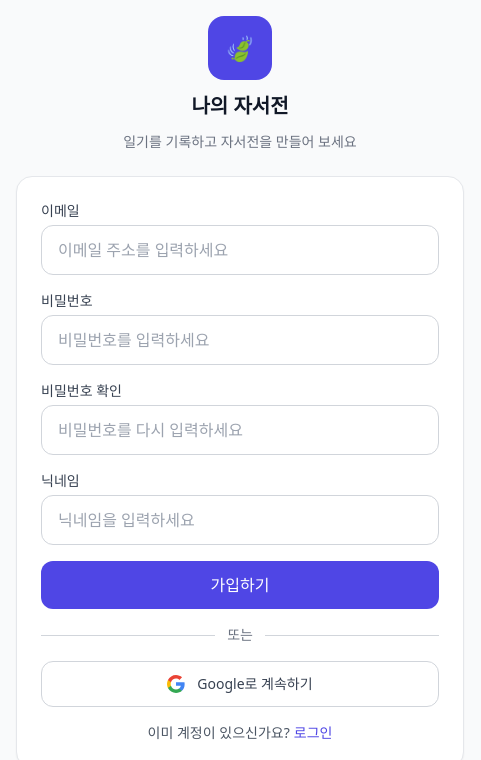
Test: SignupPage (리디자인) › validateForm 유효성 검증 › should show error when password is shorter than 8 characters
In the field with test id "email-input": [240, 250] box [41, 225, 439, 275], type "user@example.com"
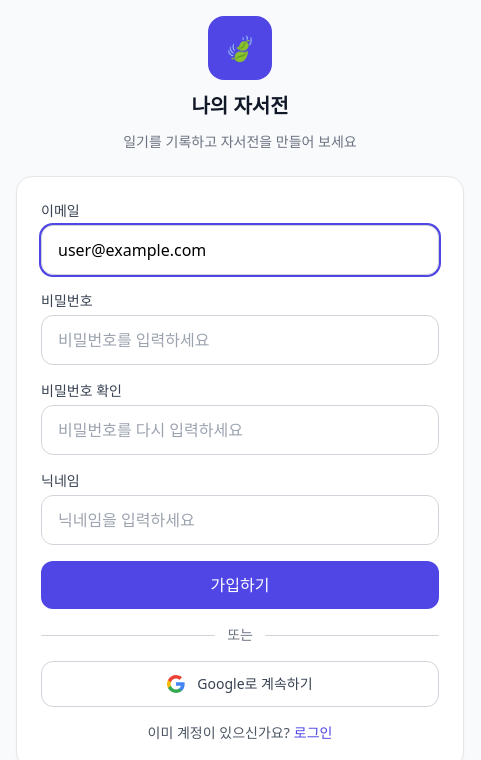
In the password field with test id "password-input": [240, 340] box [41, 315, 439, 365], type "short"
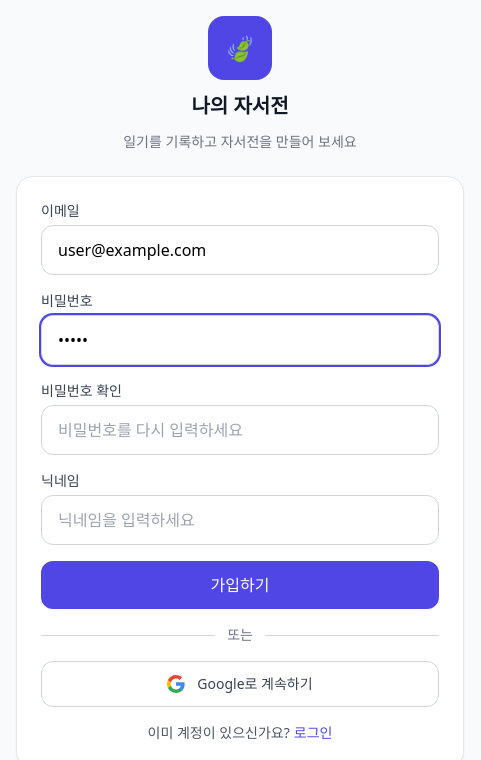
Click the button with test id "submit-button": [240, 585] box [41, 561, 439, 609]
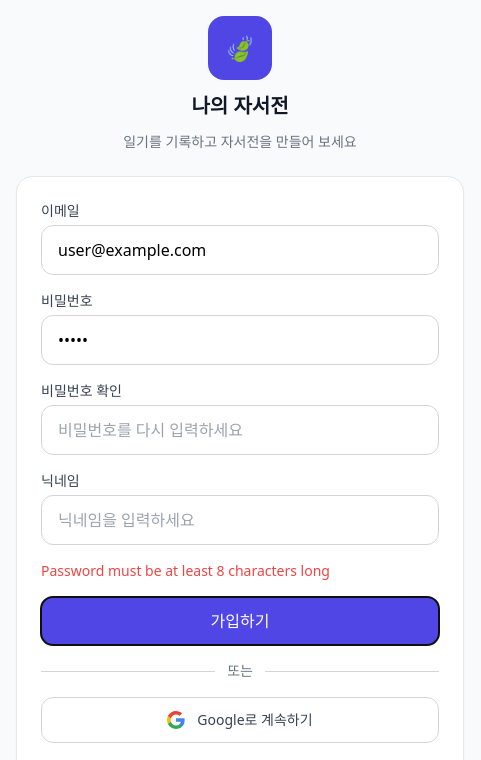
Now the message "Password must be at least 8 characters long" is shown, box [41, 561, 330, 580]
